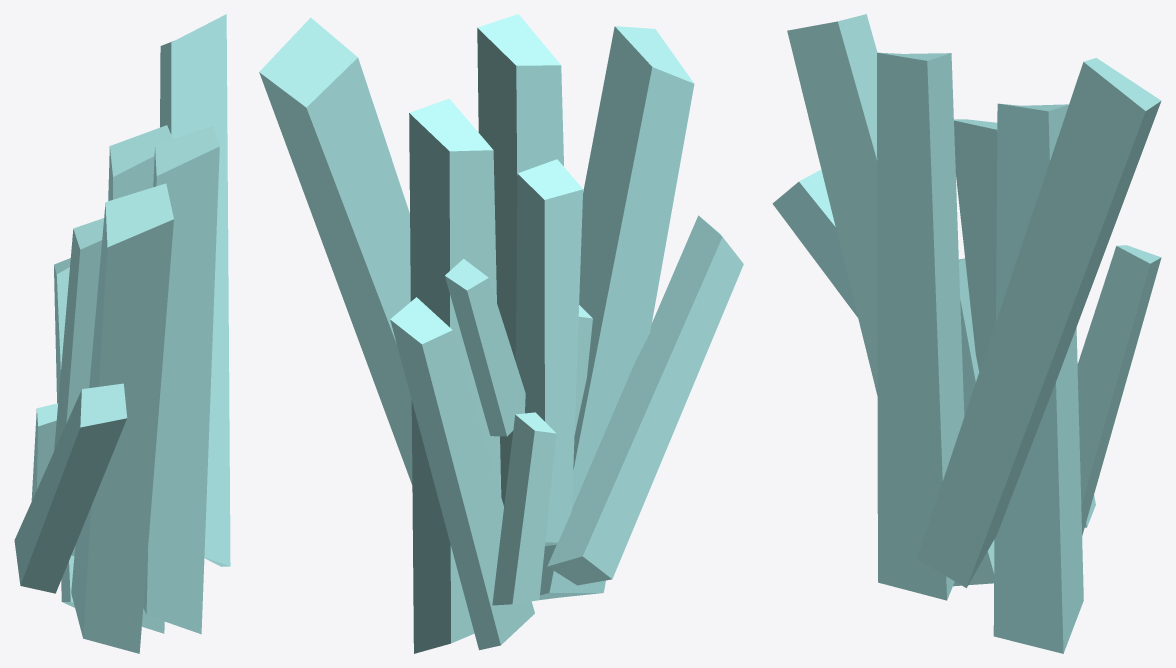
The model's file is FriesIndiv.fbx.
3 views of the same model, side by side, from view 1: azimuth 30°, elevation 25°; view 2: azimuth 150°, elevation 25°; view 3: azimuth 270°, elevation 25° (orthographic). The views are drawn at different scales.
Parts seen in each view (by area): view 1: fries; view 2: fries; view 3: fries.
Part boxes in pixels (left/top/right/bottom): fries: left=14, top=14, right=230, bottom=653; fries: left=259, top=14, right=743, bottom=653; fries: left=772, top=14, right=1161, bottom=653.
Bounding box in the file's own units: 12.71 × 23.78 × 13.12.
